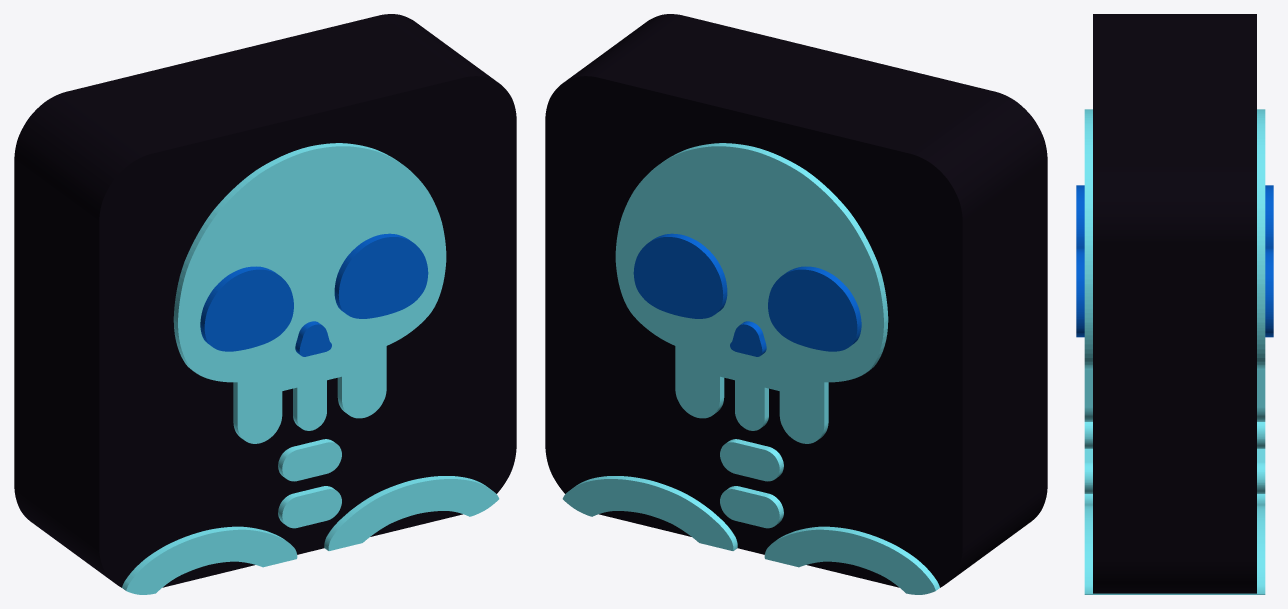
3 views of the same model, side by side, from view 1: azimuth 30°, elevation 25°; view 2: azimuth 150°, elevation 25°; view 3: azimuth 270°, elevation 25° (orthographic). The views are drawn at different scales.
Parts seen in each view (by area): view 1: U+1FA7B_layer00_obj00, U+1FA7B_layer01_obj00, U+1FA7B_layer02_obj00; view 2: U+1FA7B_layer00_obj00, U+1FA7B_layer01_obj00, U+1FA7B_layer02_obj00; view 3: U+1FA7B_layer00_obj00, U+1FA7B_layer01_obj00, U+1FA7B_layer02_obj00.
Boxes of the visible parts, left/top/right/bottom form: U+1FA7B_layer00_obj00: left=14, top=14, right=516, bottom=587; U+1FA7B_layer01_obj00: left=122, top=143, right=499, bottom=594; U+1FA7B_layer02_obj00: left=200, top=233, right=428, bottom=356; U+1FA7B_layer00_obj00: left=545, top=14, right=1047, bottom=587; U+1FA7B_layer01_obj00: left=562, top=143, right=939, bottom=594; U+1FA7B_layer02_obj00: left=633, top=233, right=861, bottom=356; U+1FA7B_layer00_obj00: left=1093, top=14, right=1256, bottom=593; U+1FA7B_layer01_obj00: left=1084, top=109, right=1265, bottom=594; U+1FA7B_layer02_obj00: left=1076, top=185, right=1273, bottom=337.
Bounding box in the file's own units: 0.5678 × 0.5677 × 0.24.
